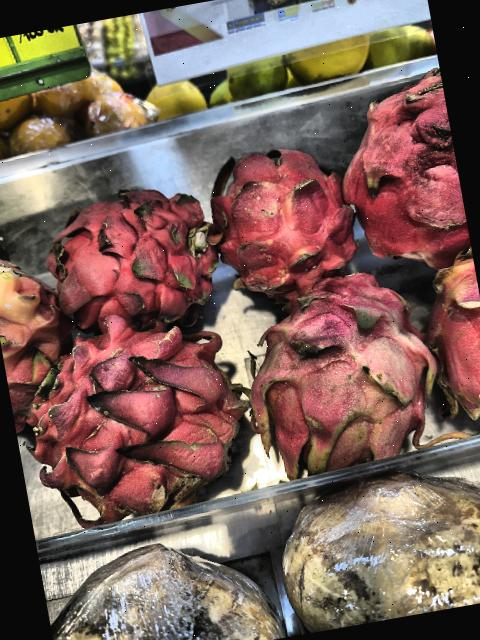buah-naga-belum-matang: (235, 264, 459, 486), (0, 238, 88, 425), (412, 248, 480, 429)
buah-naga-matang: (9, 309, 276, 538), (25, 176, 235, 347), (327, 57, 473, 280), (190, 130, 368, 308)
